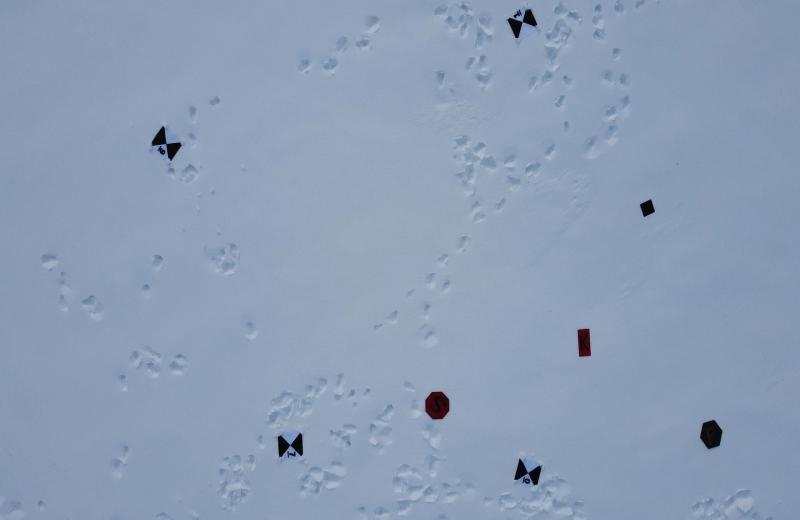Hexagon: (698, 416, 725, 450)
Octagon: (422, 386, 451, 422)
Rectangle: (575, 326, 596, 360)
Square: (637, 197, 655, 218)
